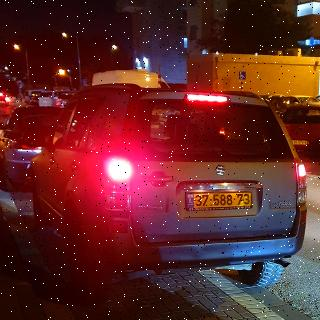LicensePlate: (194, 193, 250, 208)
